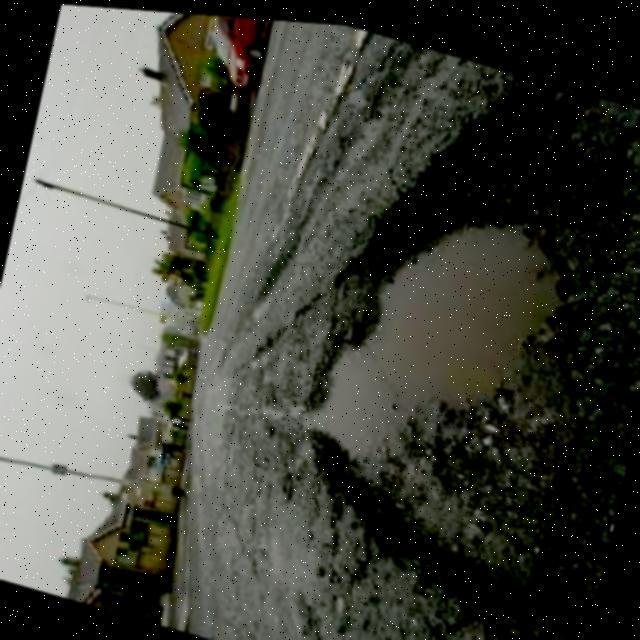pothole: (271, 21, 640, 621)
